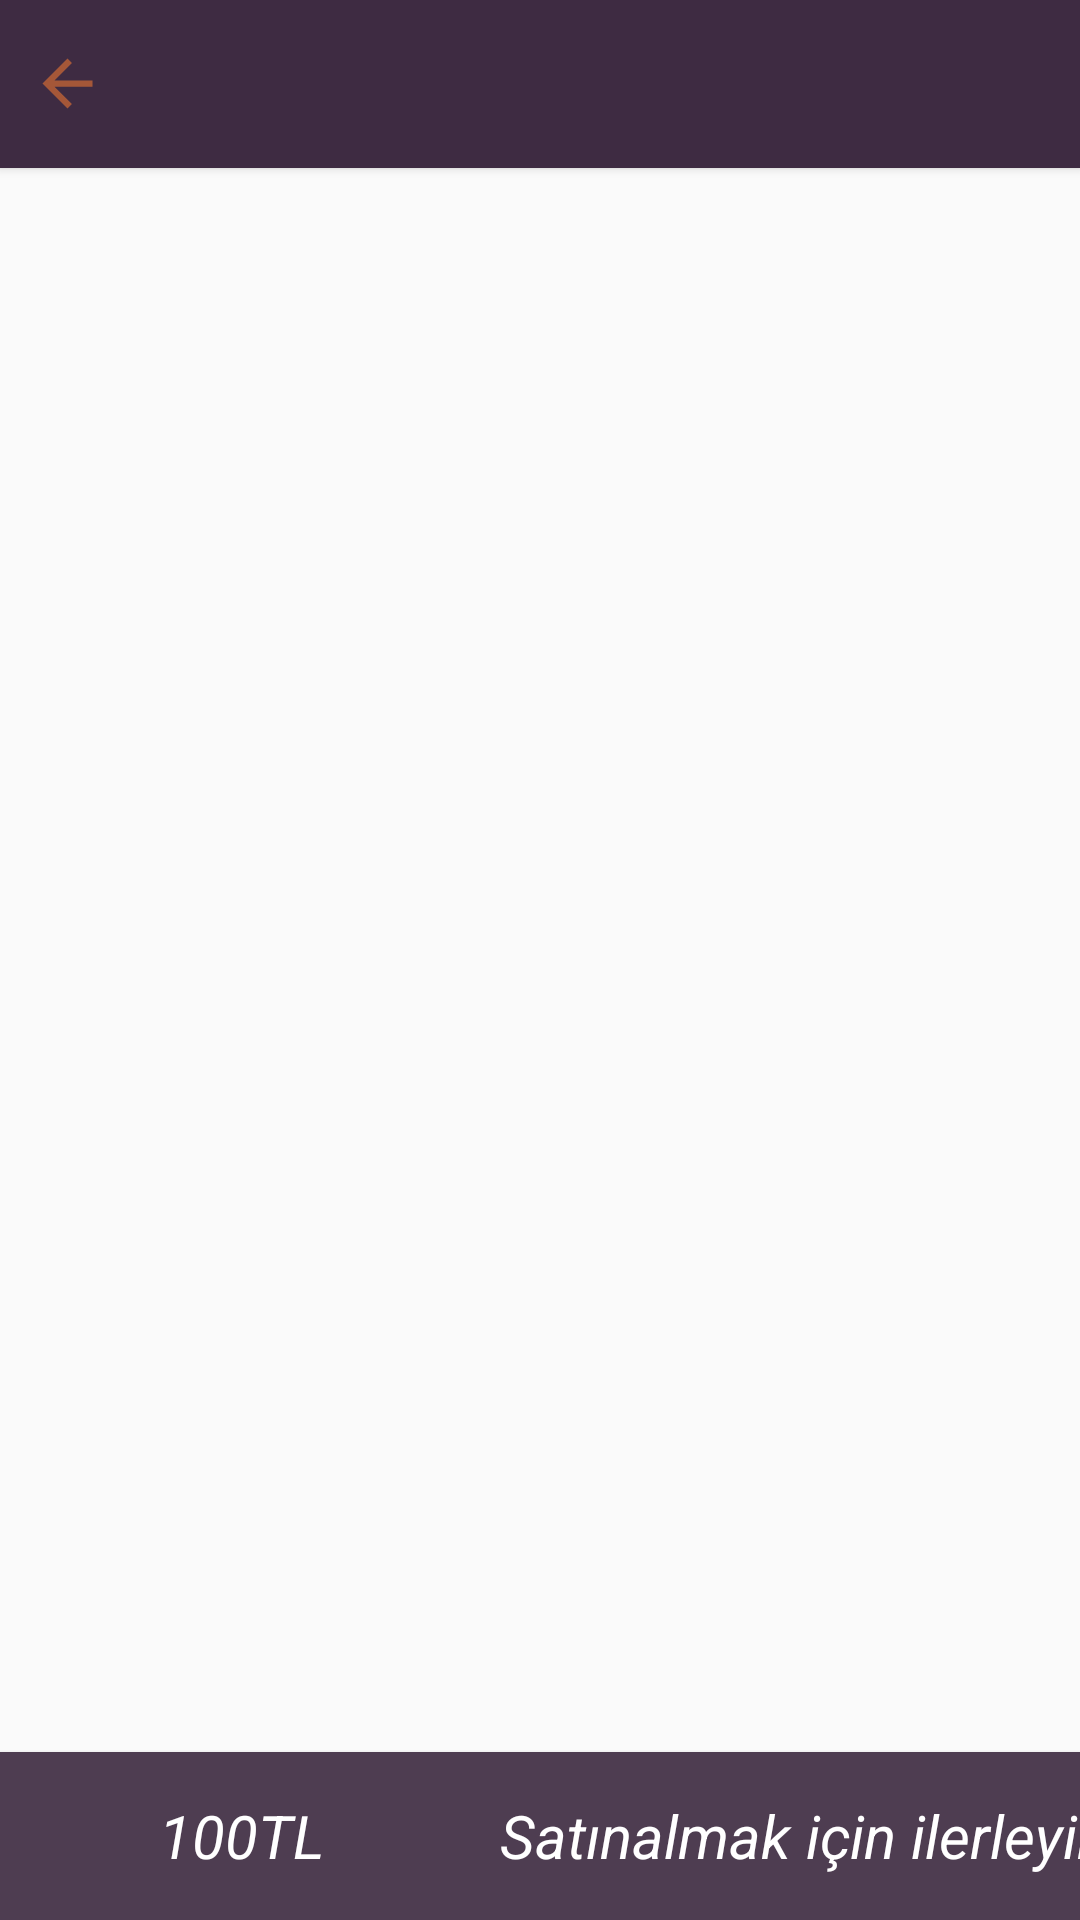

Screen size 1080x1920. Icon name, then its box in pixels as (x1, y1, x2, y2):
arrow back: (42, 58, 93, 109)
